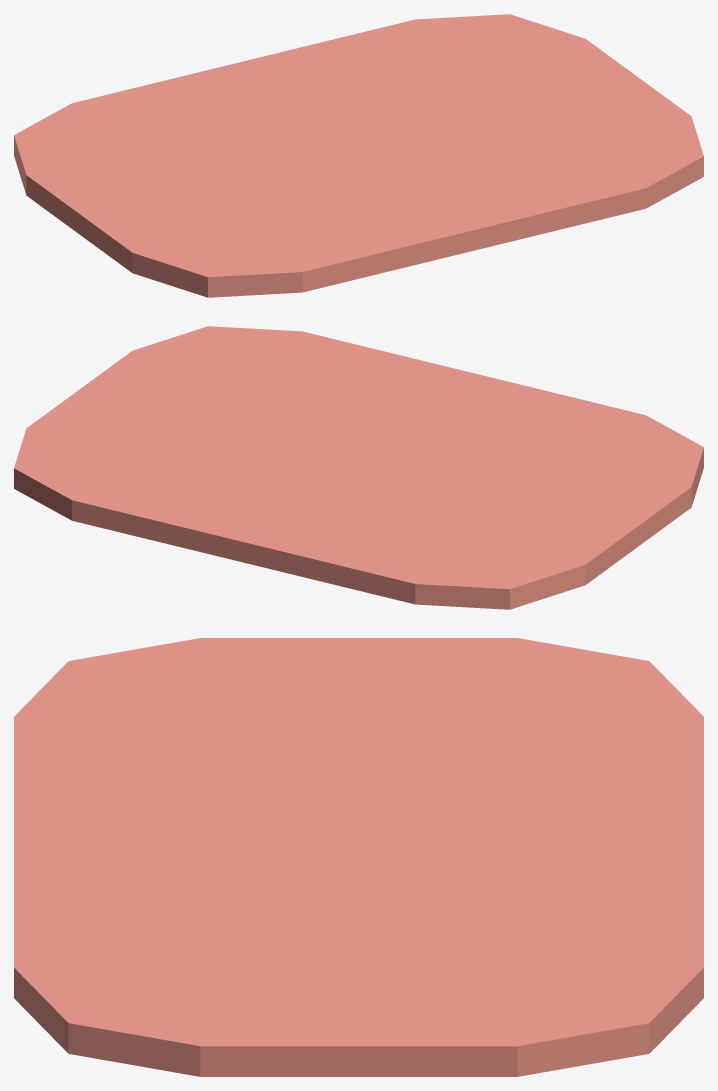
The model's file is FBX_Ham.fbx.
The picture shows the model from 3 angles, top to bottom: view 1: azimuth 30°, elevation 25°; view 2: azimuth 150°, elevation 25°; view 3: azimuth 270°, elevation 25°; orthographic projection. The views are drawn at different scales.
Parts seen in each view (by area): view 1: ham; view 2: ham; view 3: ham.
Boxes of the visible parts, bbox=[...] form: ham: bbox=[14, 14, 703, 297]; ham: bbox=[14, 326, 703, 609]; ham: bbox=[14, 638, 703, 1076].
Bounding box in the file's own units: 280 × 9.82 × 200.
